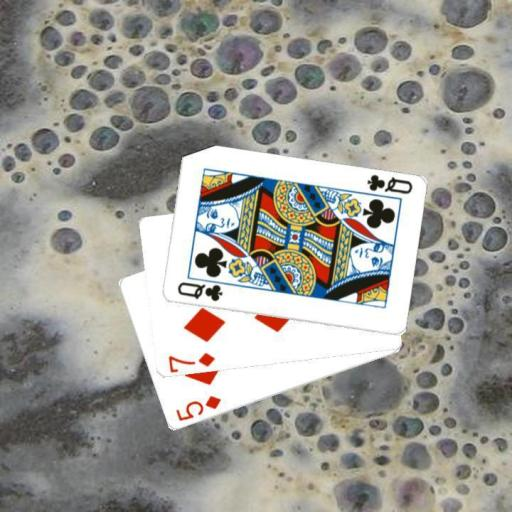card-corner: (172, 393, 223, 423), (174, 278, 224, 304), (363, 172, 414, 196), (164, 350, 216, 372)
